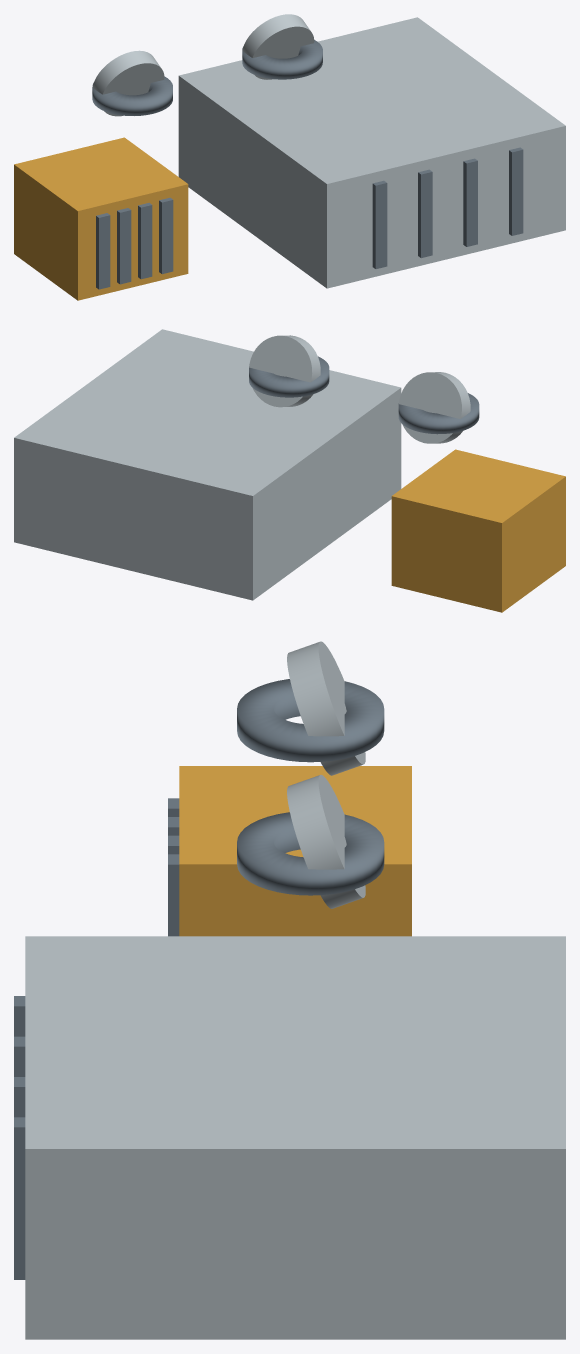
Rendered from curiosity_labs.glb.
3 views of the same model, one above another, from view 1: azimuth 30°, elevation 25°; view 2: azimuth 150°, elevation 25°; view 3: azimuth 270°, elevation 25° (orthographic). The views are drawn at different scales.
Visible parts, largest first — view 1: curiosity_labs.cutaway.sam.mesh_Satin_aluminum, curiosity_labs.cutaway.chemin.mesh_Gold_thermal_insulation, curiosity_labs.cutaway.sam.mesh_Machined_steel, curiosity_labs.cutaway.chemin.mesh_Machined_steel, curiosity_labs.sample_inlets.mesh_Machined_steel, curiosity_labs.sample_inlets.inlet_cover_01.mesh_Satin_alumi, curiosity_labs.sample_inlets.inlet_cover_02.mesh_Satin_alumi; view 2: curiosity_labs.cutaway.sam.mesh_Satin_aluminum, curiosity_labs.cutaway.chemin.mesh_Gold_thermal_insulation, curiosity_labs.sample_inlets.mesh_Machined_steel, curiosity_labs.sample_inlets.inlet_cover_02.mesh_Satin_alumi, curiosity_labs.sample_inlets.inlet_cover_01.mesh_Satin_alumi; view 3: curiosity_labs.cutaway.sam.mesh_Satin_aluminum, curiosity_labs.cutaway.chemin.mesh_Gold_thermal_insulation, curiosity_labs.sample_inlets.mesh_Machined_steel, curiosity_labs.sample_inlets.inlet_cover_01.mesh_Satin_alumi, curiosity_labs.sample_inlets.inlet_cover_02.mesh_Satin_alumi, curiosity_labs.cutaway.sam.mesh_Machined_steel, curiosity_labs.cutaway.chemin.mesh_Machined_steel.
Part boxes in pixels (x1=…): curiosity_labs.cutaway.sam.mesh_Satin_aluminum: x1=178, y1=17, x2=565, y2=288; curiosity_labs.cutaway.chemin.mesh_Gold_thermal_insulation: x1=14, y1=137, x2=188, y2=300; curiosity_labs.cutaway.sam.mesh_Machined_steel: x1=372, y1=147, x2=523, y2=268; curiosity_labs.cutaway.chemin.mesh_Machined_steel: x1=96, y1=197, x2=173, y2=289; curiosity_labs.sample_inlets.mesh_Machined_steel: x1=92, y1=40, x2=322, y2=115; curiosity_labs.sample_inlets.inlet_cover_01.mesh_Satin_alumi: x1=92, y1=50, x2=164, y2=116; curiosity_labs.sample_inlets.inlet_cover_02.mesh_Satin_alumi: x1=242, y1=14, x2=314, y2=79; curiosity_labs.cutaway.sam.mesh_Satin_aluminum: x1=14, y1=329, x2=401, y2=600; curiosity_labs.cutaway.chemin.mesh_Gold_thermal_insulation: x1=391, y1=449, x2=565, y2=612; curiosity_labs.sample_inlets.mesh_Machined_steel: x1=249, y1=356, x2=479, y2=434; curiosity_labs.sample_inlets.inlet_cover_02.mesh_Satin_alumi: x1=249, y1=335, x2=320, y2=407; curiosity_labs.sample_inlets.inlet_cover_01.mesh_Satin_alumi: x1=399, y1=372, x2=470, y2=443; curiosity_labs.cutaway.sam.mesh_Satin_aluminum: x1=25, y1=936, x2=565, y2=1339; curiosity_labs.cutaway.chemin.mesh_Gold_thermal_insulation: x1=179, y1=766, x2=411, y2=936; curiosity_labs.sample_inlets.mesh_Machined_steel: x1=237, y1=679, x2=384, y2=895; curiosity_labs.sample_inlets.inlet_cover_01.mesh_Satin_alumi: x1=287, y1=641, x2=365, y2=775; curiosity_labs.sample_inlets.inlet_cover_02.mesh_Satin_alumi: x1=287, y1=775, x2=365, y2=908; curiosity_labs.cutaway.sam.mesh_Machined_steel: x1=14, y1=996, x2=25, y2=1279; curiosity_labs.cutaway.chemin.mesh_Machined_steel: x1=168, y1=798, x2=179, y2=936.
Size of the model in its own units: 1.25 by 0.5524 by 0.735.
